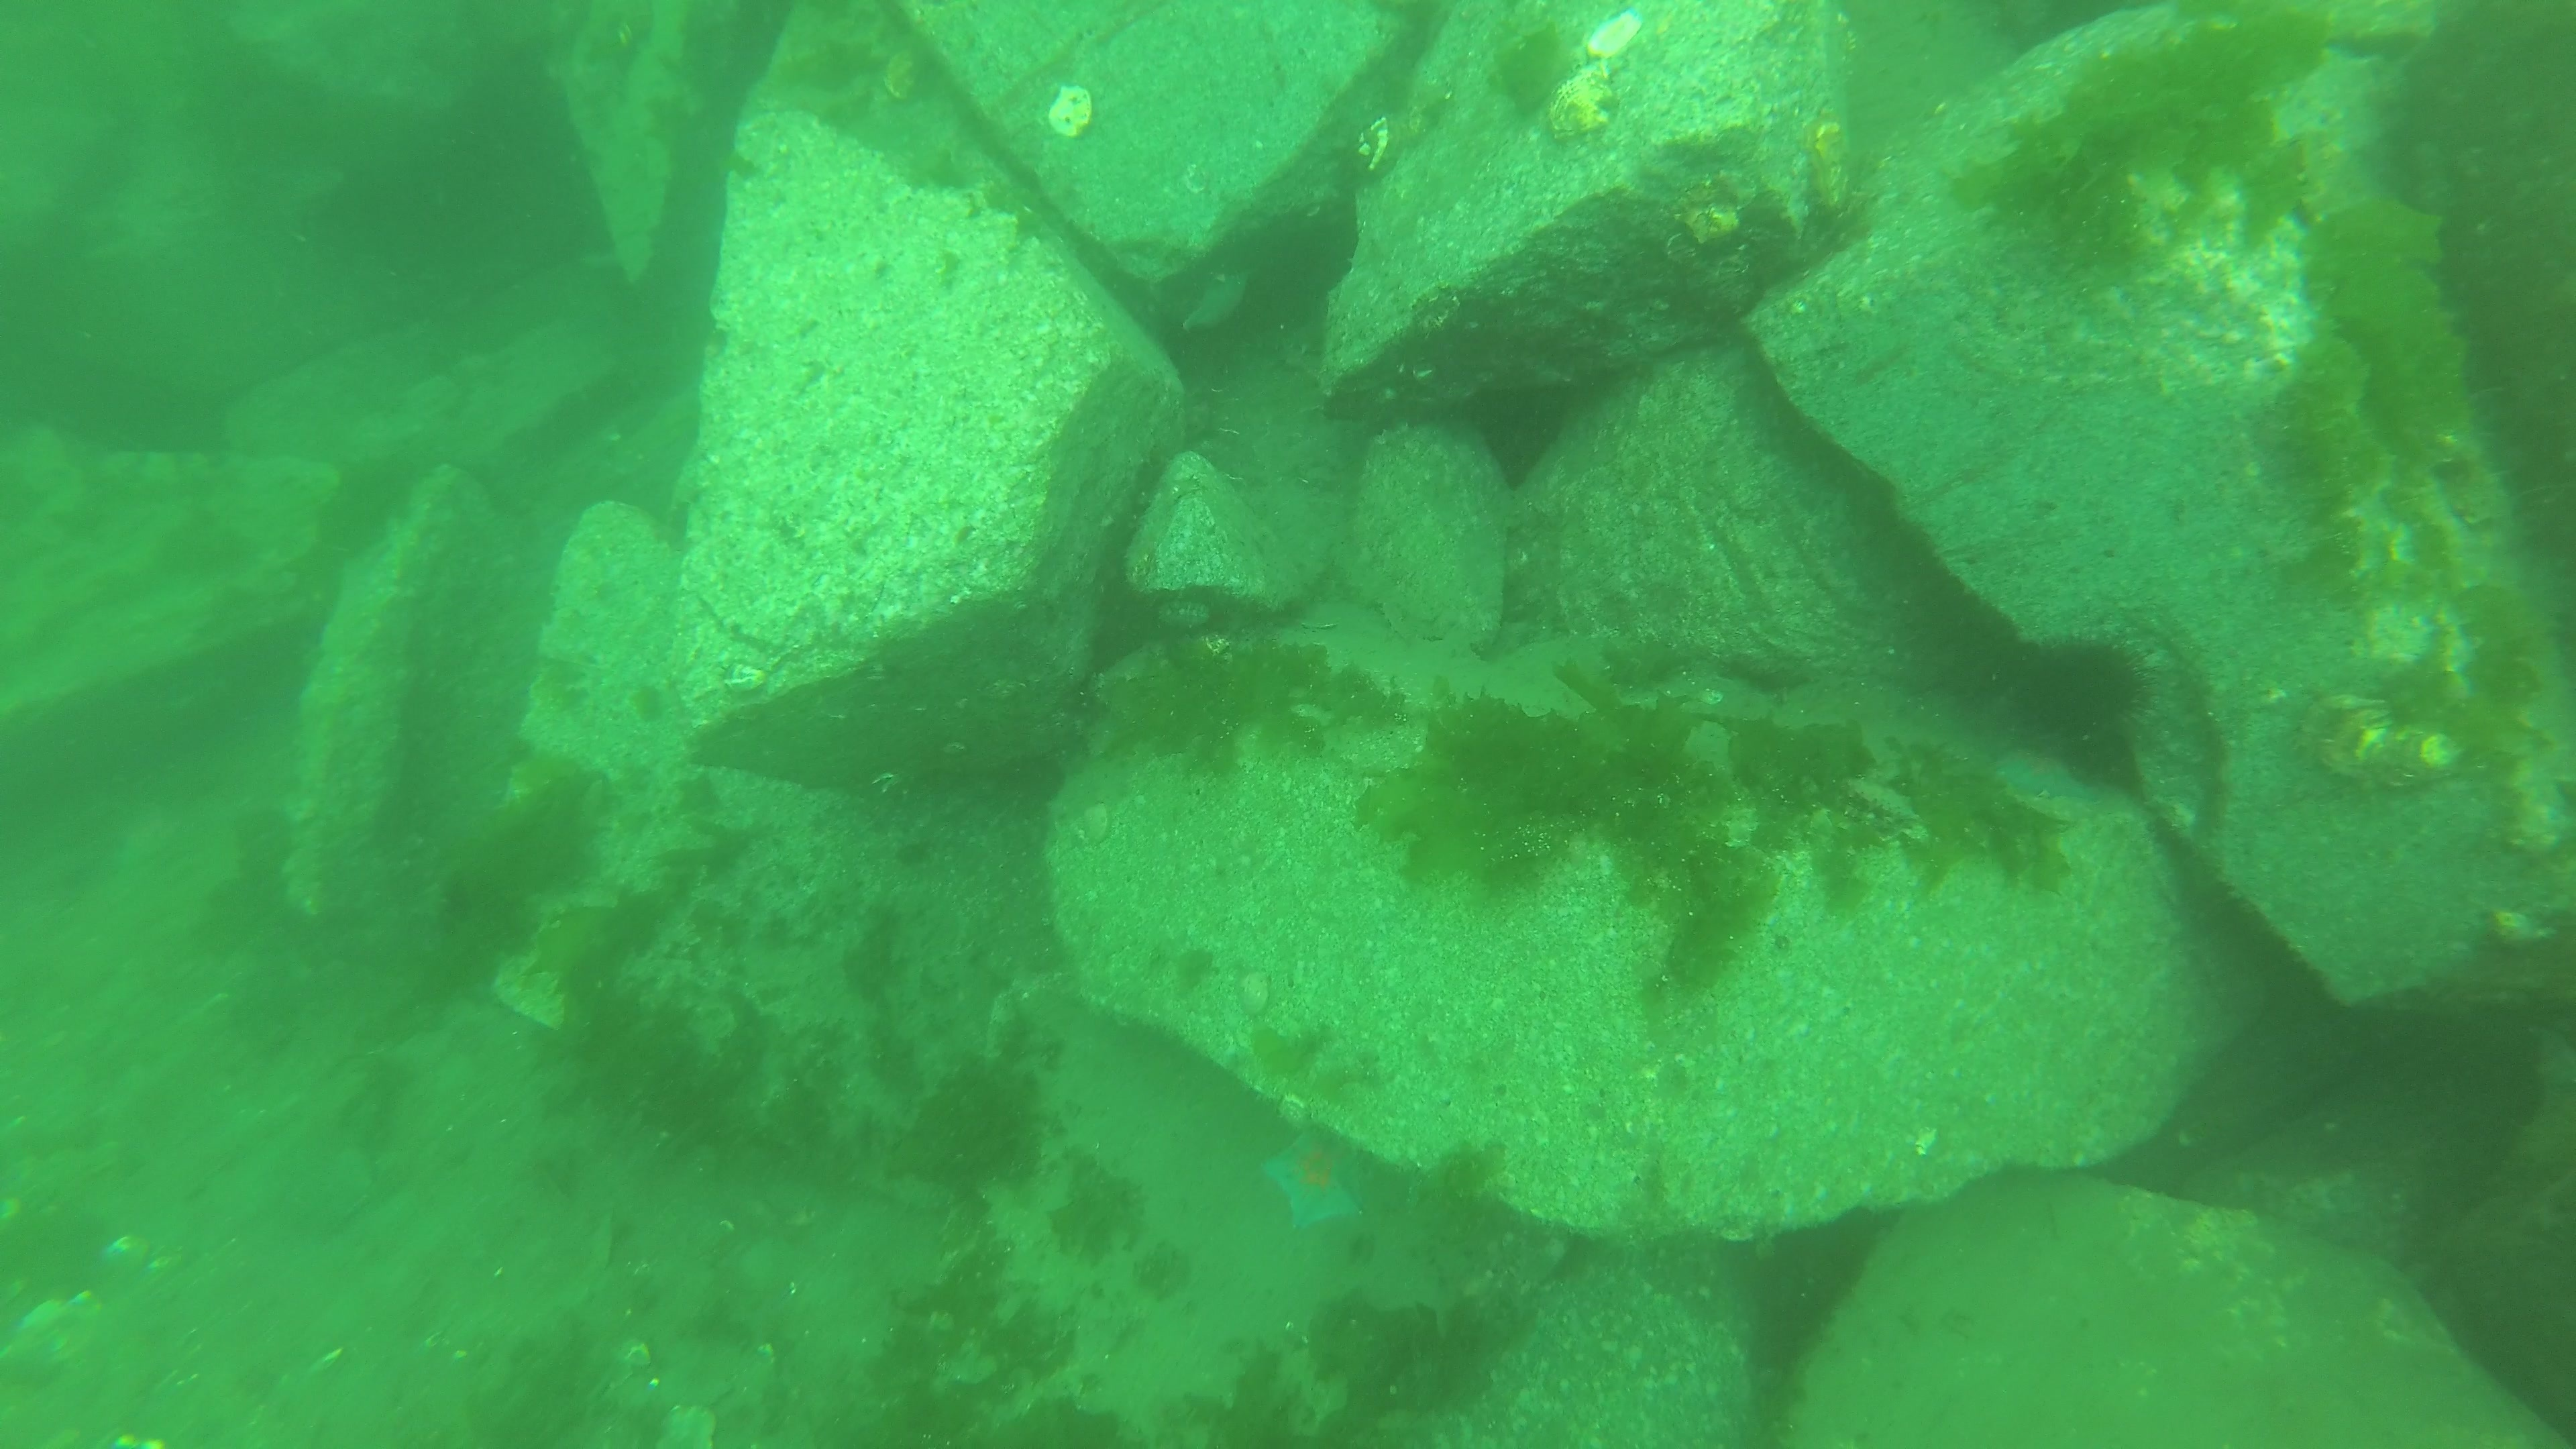echinus: (1999, 628, 2162, 763)
starfish: (1256, 1122, 1382, 1238), (1180, 269, 1260, 340)
